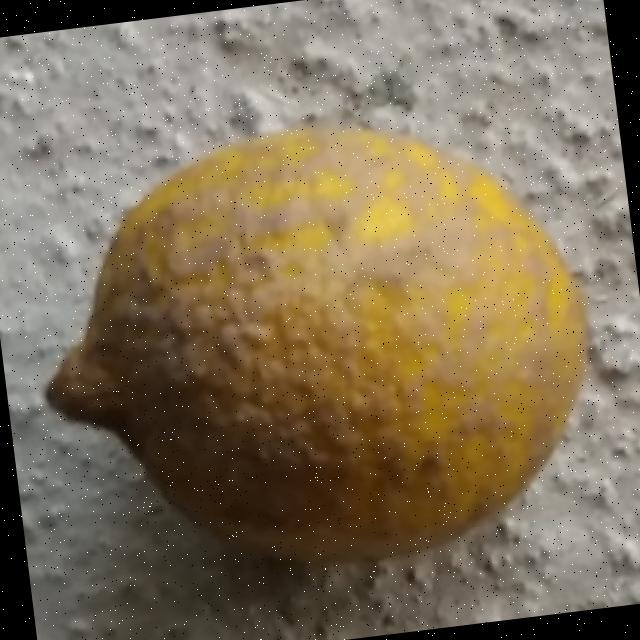overripe: (9, 86, 618, 604)
